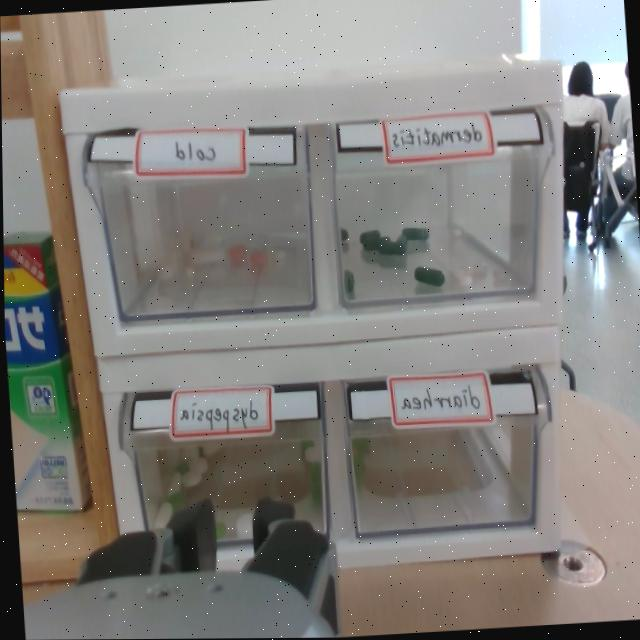text: (174, 392, 262, 435), (384, 119, 485, 153), (394, 379, 483, 416), (167, 137, 219, 168)
